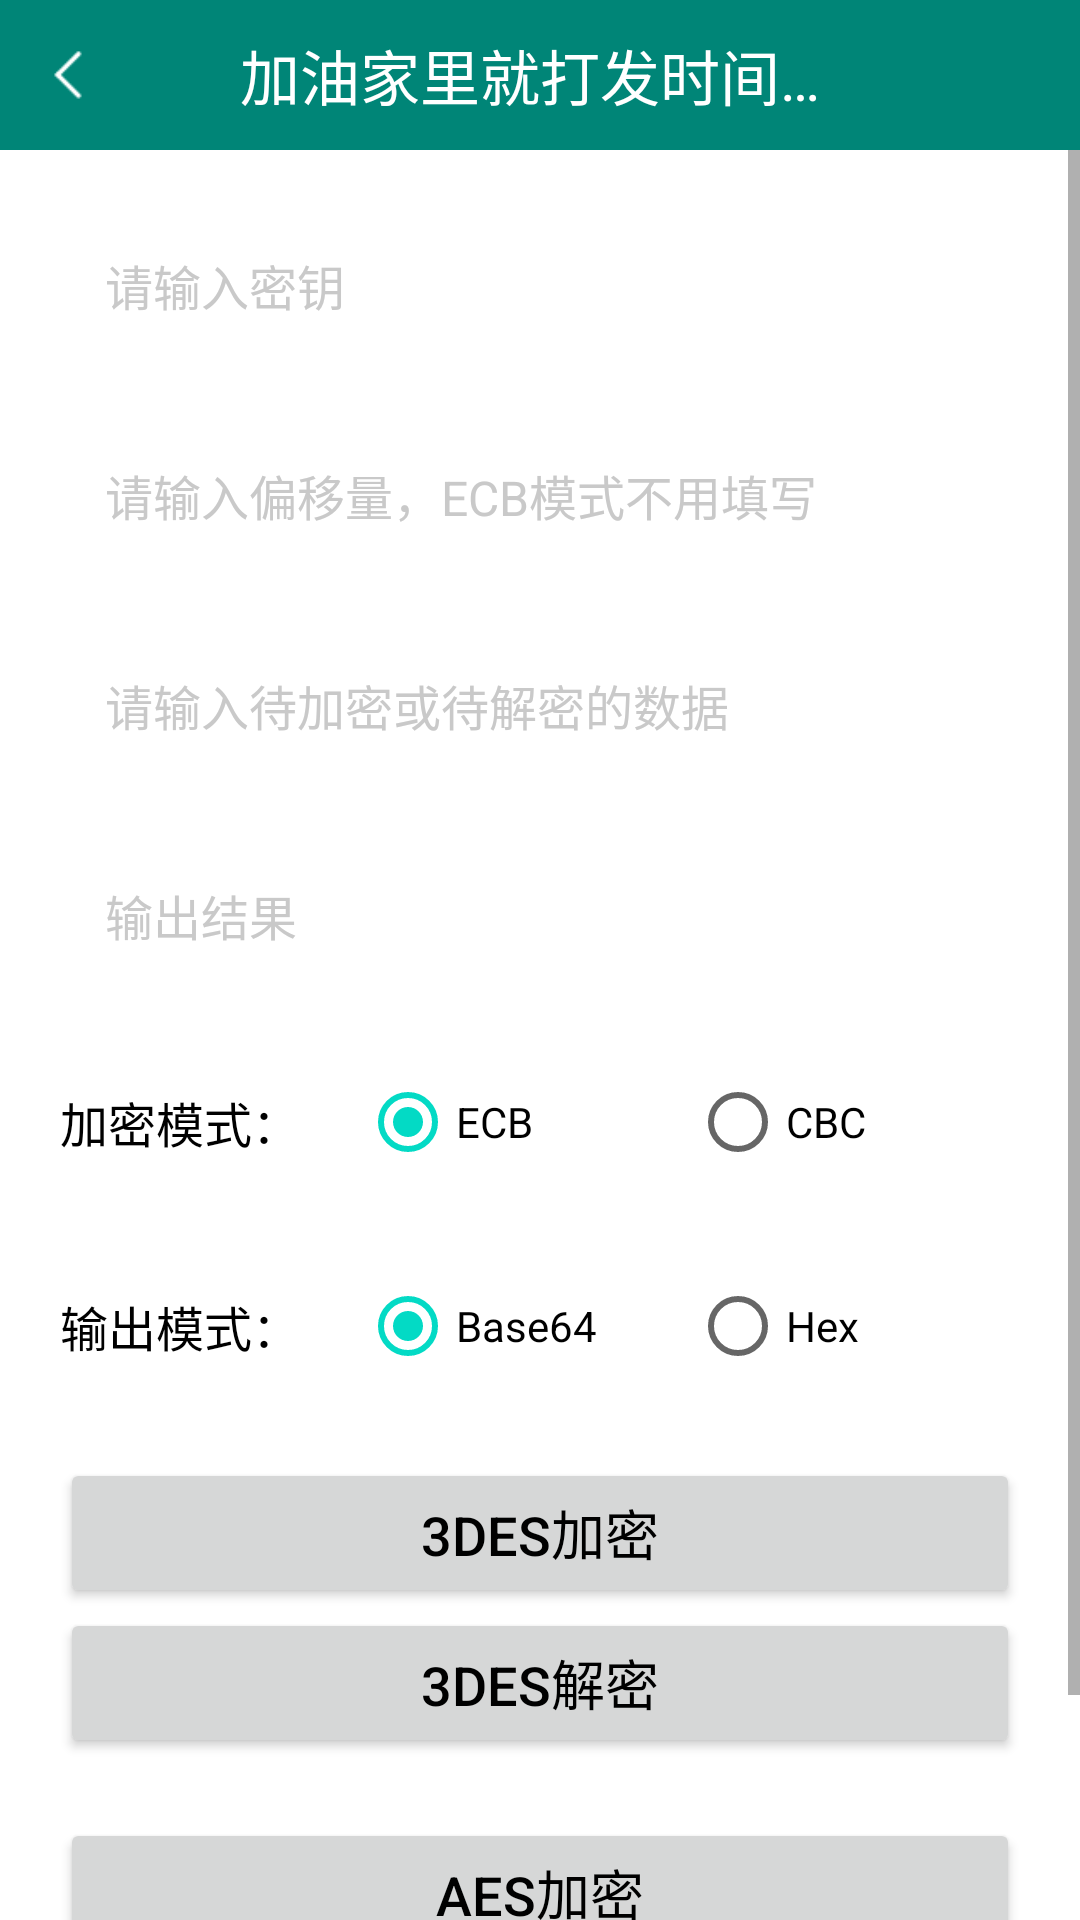

Named icons in this screenshot (1080x1920) and their centers, (x,y):
back: (68,75)
